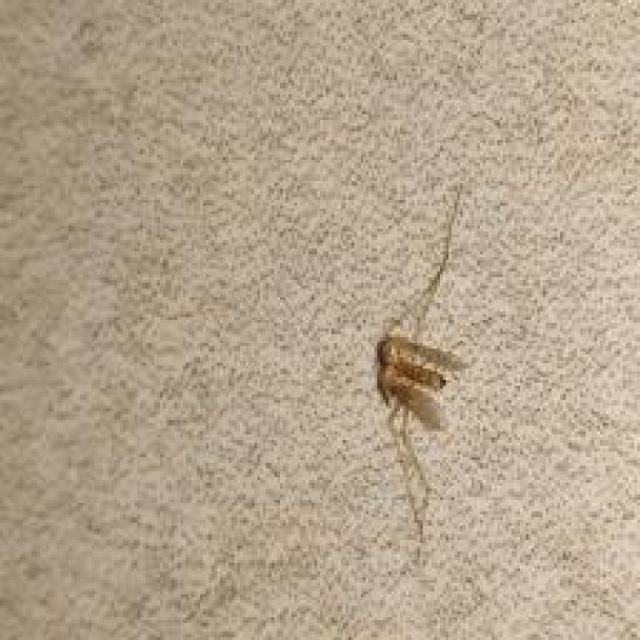Culex: (370, 183, 473, 566)
